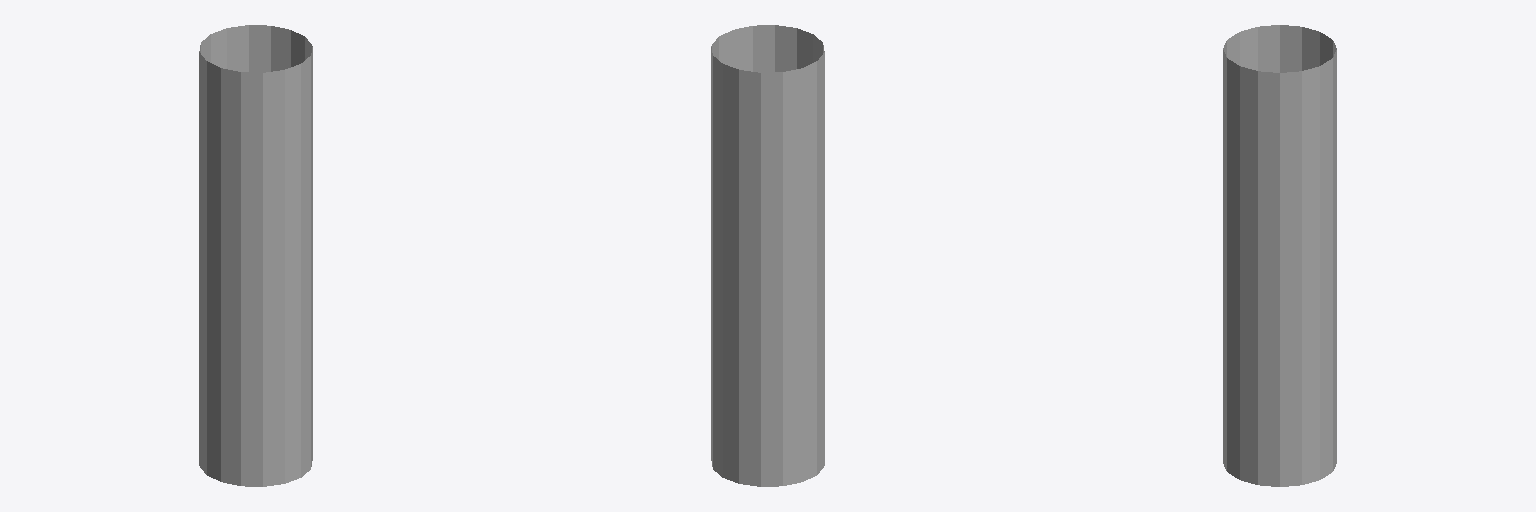
The model's file is Arrow1.obj.
3 renders of one model, left to right at view 1: azimuth 30°, elevation 25°; view 2: azimuth 150°, elevation 25°; view 3: azimuth 270°, elevation 25°, orthographic.
Parts seen in each view (by area): view 1: Cylinder.001; view 2: Cylinder.001; view 3: Cylinder.001.
Part boxes in pixels (left/top/right/bottom): Cylinder.001: left=199, top=25, right=312, bottom=486; Cylinder.001: left=711, top=25, right=824, bottom=486; Cylinder.001: left=1223, top=25, right=1336, bottom=486.
Bounding box in the file's own units: 1 × 4 × 1.